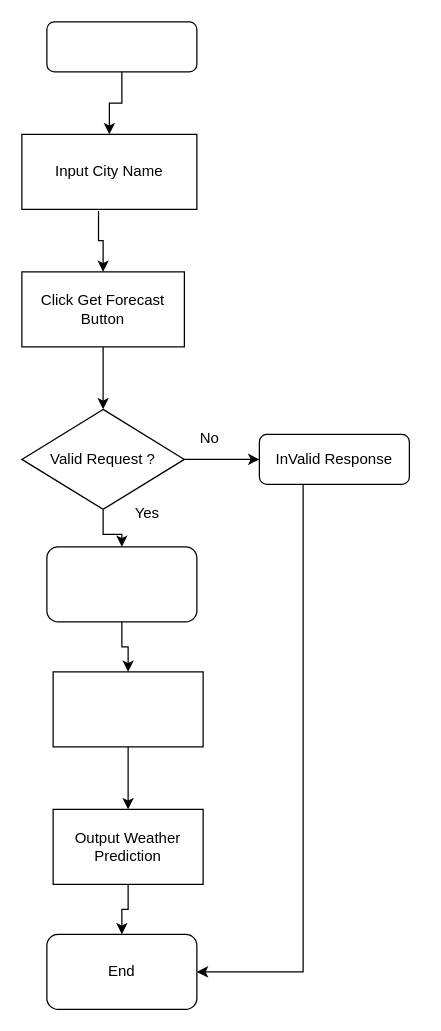
This 441x1031 diagram has some shape labels left out. The centre of each missing label's shape, as x and y in pixels:
Fetch Weather API: the point at 121,584
Parse Weather Response: the point at 127,709
Start: the point at 121,46
